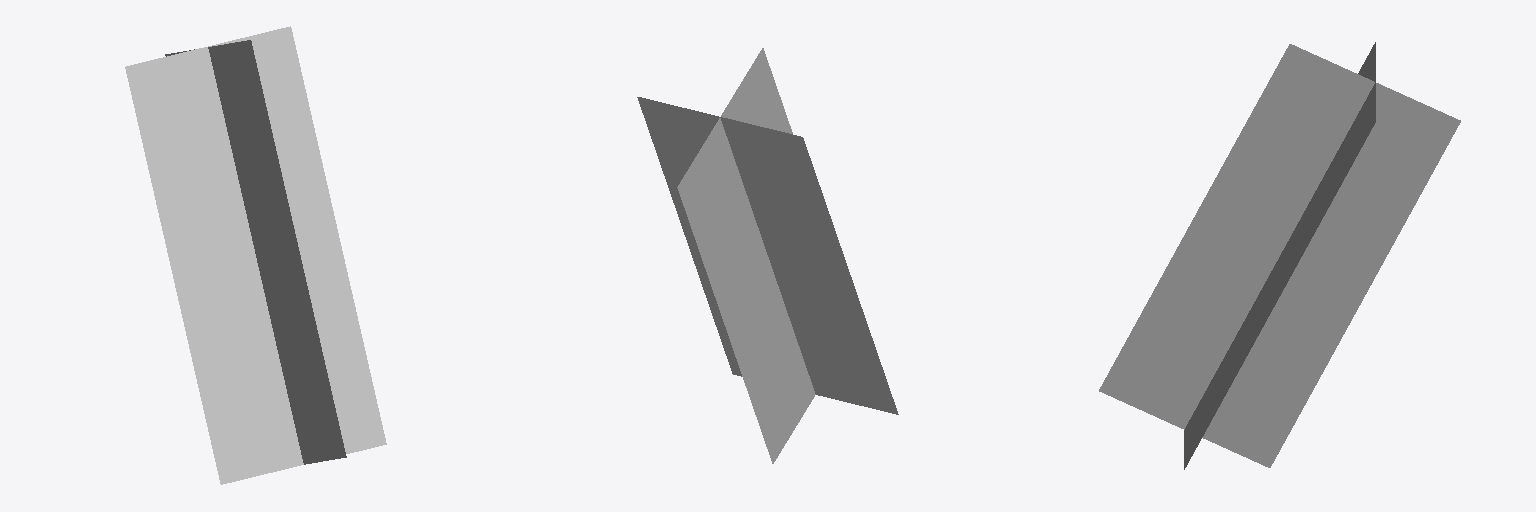
File: mt_string_slope_double.obj
3 renders of one model, left to right at view 1: azimuth 30°, elevation 25°; view 2: azimuth 150°, elevation 25°; view 3: azimuth 270°, elevation 25°, orthographic.
Parts seen in each view (by area): view 1: cube; view 2: cube; view 3: cube.
Part boxes in pixels (x1,y1,x2,y2): cube: (125, 26, 386, 484); cube: (637, 48, 898, 463); cube: (1099, 42, 1460, 469).
Size of the model in its own units: 1 by 2.45 by 1.89.